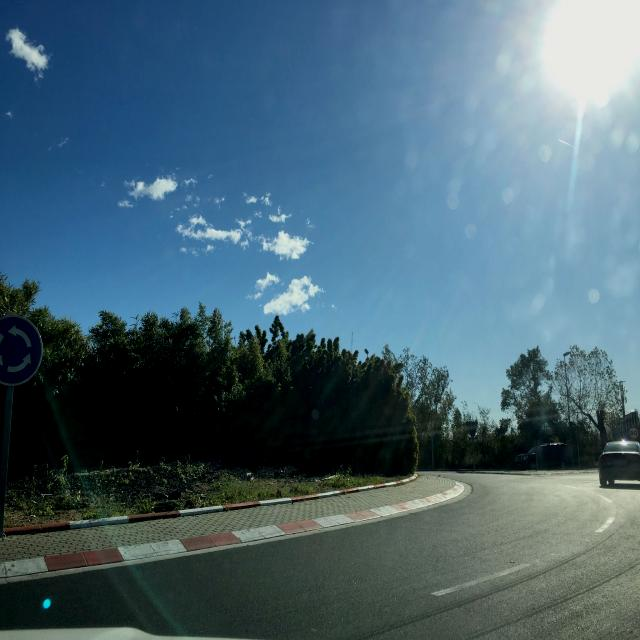car: (598, 440, 640, 488), (522, 440, 570, 470)
